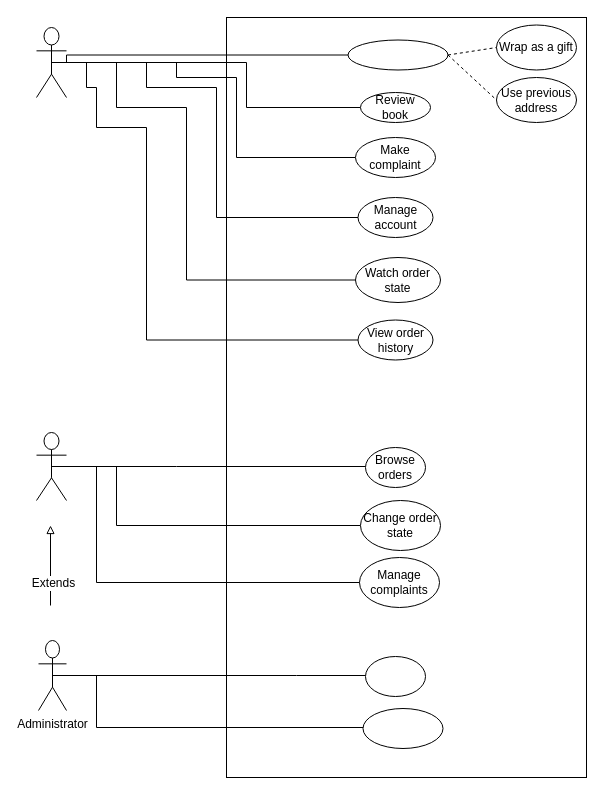
Some shapes in this 604 by 795 pixel diagram are drawn without their labels. Each missing label, with the centre of its shape:
"Customer" belongs at point 51,62.
"Employee" belongs at point 51,466.
"Manage books" belongs at point 402,728.
"Manage users" belongs at point 395,676.
"Order book" belongs at point 397,54.
